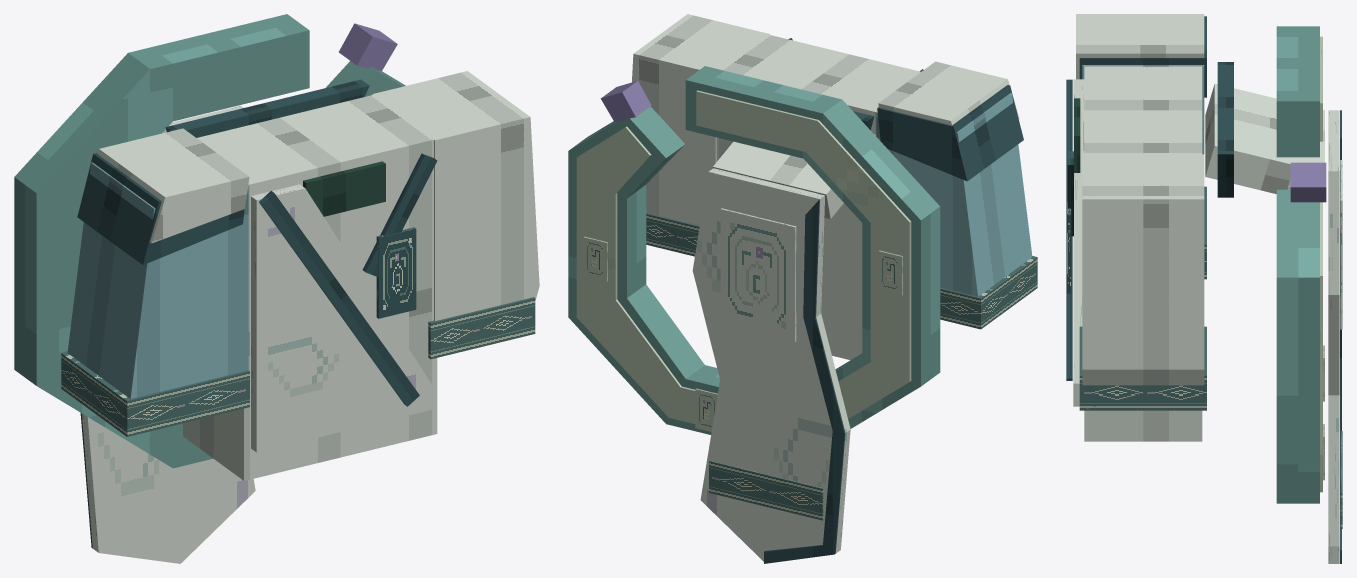
The model's file is huashen_taixu_chestplate.obj.
3 renders of one model, left to right at view 1: azimuth 30°, elevation 25°; view 2: azimuth 150°, elevation 25°; view 3: azimuth 270°, elevation 25°, orthographic. The views are drawn at different scales.
Visible parts, largest first — view 1: void_open_bi, robe_body, cross_front, left_sleeve, right_sleeve, void_cloud_fall, void_shoulder_face, left_cuff, void_shoulder_fold, collar_left, right_cuff, void_cloud_root (+4 smaller); view 2: void_open_bi, void_cloud_fall, void_bi_polished_face, robe_body, left_sleeve, right_sleeve, void_rear_seal, void_shoulder_fold, void_cloud_turn, void_shoulder_face, void_rear_border, void_cloud_bridge (+6 smaller); view 3: right_sleeve, void_open_bi, robe_body, void_cloud_bridge, void_shoulder_face, void_cloud_fall, right_cuff, cross_front, void_cloud_root, void_gap_gem, collar_left, void_bi_polished_face (+7 smaller).
Boxes of the visible parts, x1,y1,x2,y2 form: void_open_bi: (14, 14, 405, 468); robe_body: (183, 95, 437, 480); cross_front: (251, 184, 432, 452); left_sleeve: (67, 162, 248, 398); right_sleeve: (372, 71, 539, 320); void_cloud_fall: (82, 105, 255, 563); void_shoulder_face: (97, 128, 249, 243); left_cuff: (61, 351, 249, 436); void_shoulder_fold: (77, 152, 244, 264); collar_left: (259, 191, 419, 406); right_cuff: (428, 297, 535, 359); void_cloud_root: (165, 79, 369, 137); void_open_bi: (568, 66, 940, 434); void_cloud_fall: (692, 168, 850, 561); void_bi_polished_face: (576, 90, 911, 423); robe_body: (716, 34, 920, 360); left_sleeve: (876, 93, 1032, 296); right_sleeve: (632, 14, 769, 225); void_rear_seal: (720, 208, 796, 341); void_shoulder_fold: (877, 85, 1023, 181); void_cloud_turn: (764, 199, 845, 563); void_shoulder_face: (878, 61, 1019, 125); void_rear_border: (709, 460, 823, 520); void_cloud_bridge: (713, 134, 875, 219); right_sleeve: (1082, 154, 1204, 385); void_open_bi: (1276, 26, 1319, 503); robe_body: (1084, 66, 1202, 441); void_cloud_bridge: (1205, 83, 1324, 193); void_shoulder_face: (1076, 14, 1204, 79); void_cloud_fall: (1328, 110, 1339, 563); right_cuff: (1079, 326, 1206, 410); cross_front: (1073, 79, 1084, 406); void_cloud_root: (1217, 62, 1233, 197); void_gap_gem: (1290, 162, 1326, 202); collar_left: (1066, 79, 1072, 380); void_bi_polished_face: (1320, 36, 1322, 492).
Size of the model in its own units: 1.16 by 1.39 by 0.6803.
